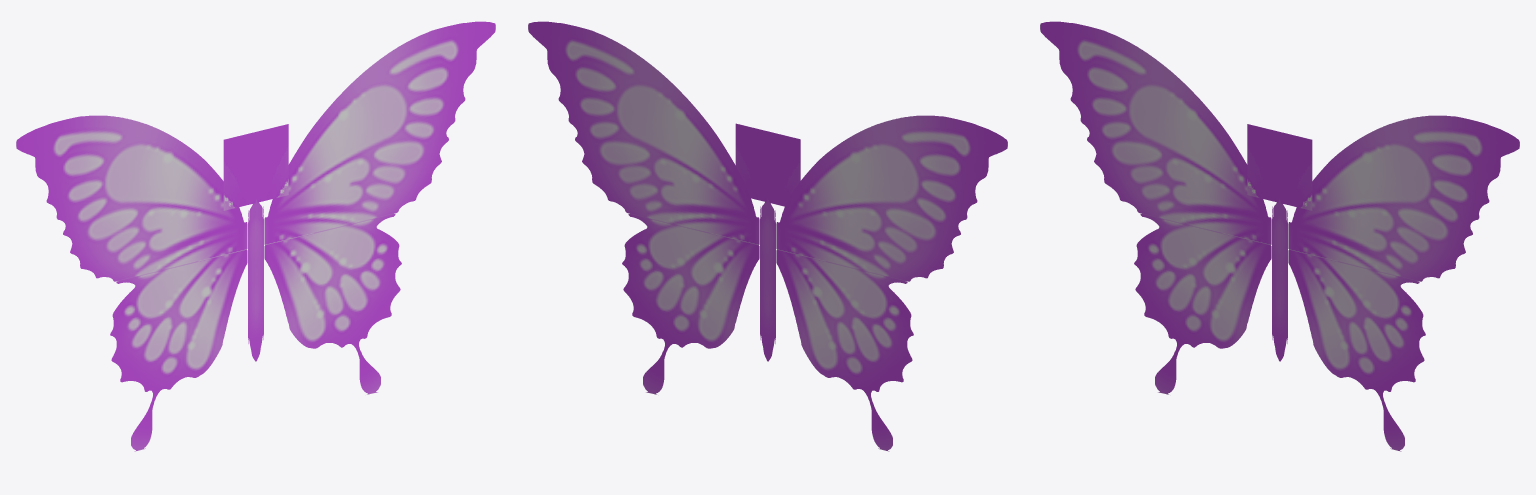
Rendered from butterfly.obj.
3 views of the same model, side by side, from view 1: azimuth 30°, elevation 25°; view 2: azimuth 150°, elevation 25°; view 3: azimuth 330°, elevation 25° (orthographic).
Visible parts, largest first — view 1: 平面, 平面.001, 平面.004, 平面.002; view 2: 平面, 平面.001, 平面.004, 平面.002; view 3: 平面, 平面.001, 平面.004, 平面.002.
Part boxes in pixels (<box>): 平面: <box>16,21,495,281</box>; 平面.001: <box>110,214,401,451</box>; 平面.004: <box>223,124,288,210</box>; 平面.002: <box>248,202,263,361</box>; 平面: <box>528,21,1007,281</box>; 平面.001: <box>622,214,913,451</box>; 平面.004: <box>735,123,800,206</box>; 平面.002: <box>760,201,775,361</box>; 平面: <box>1040,21,1519,281</box>; 平面.001: <box>1134,214,1425,451</box>; 平面.004: <box>1247,124,1312,210</box>; 平面.002: <box>1272,202,1287,361</box>.
Bounding box in the file's own units: 5.8 × 4 × 0.0056.
